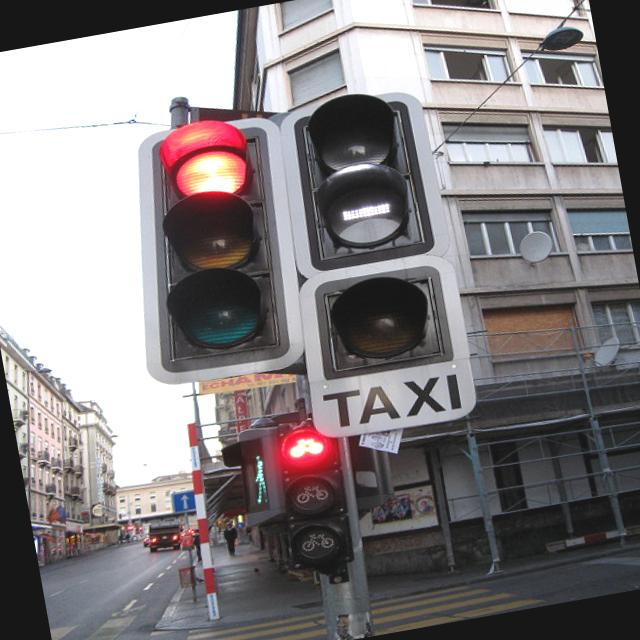Vehicle: (144, 519, 184, 554), (140, 534, 152, 548)
